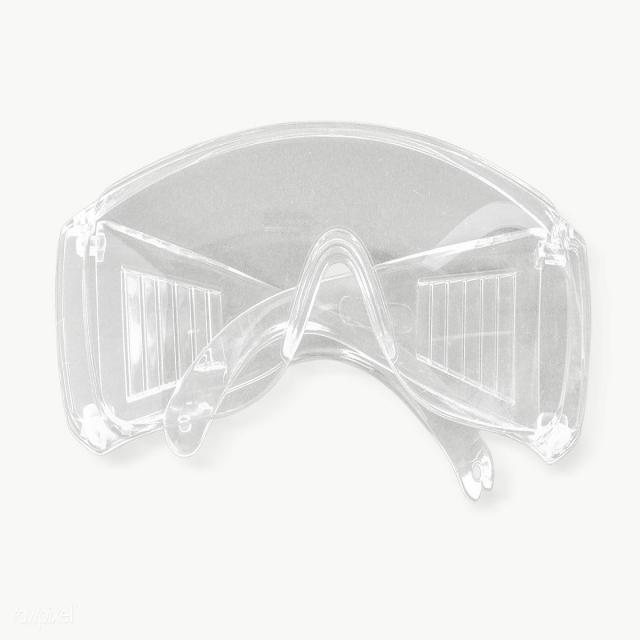Protective Glasses: (42, 98, 607, 540)
